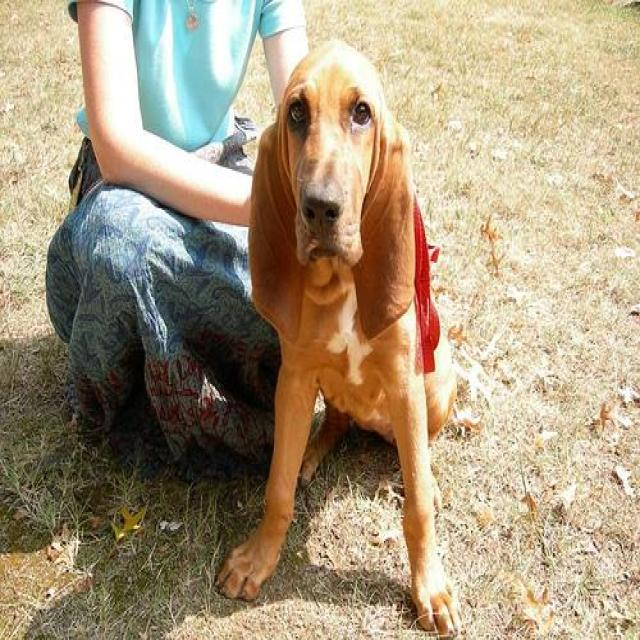bloodhound: (206, 33, 467, 636)
